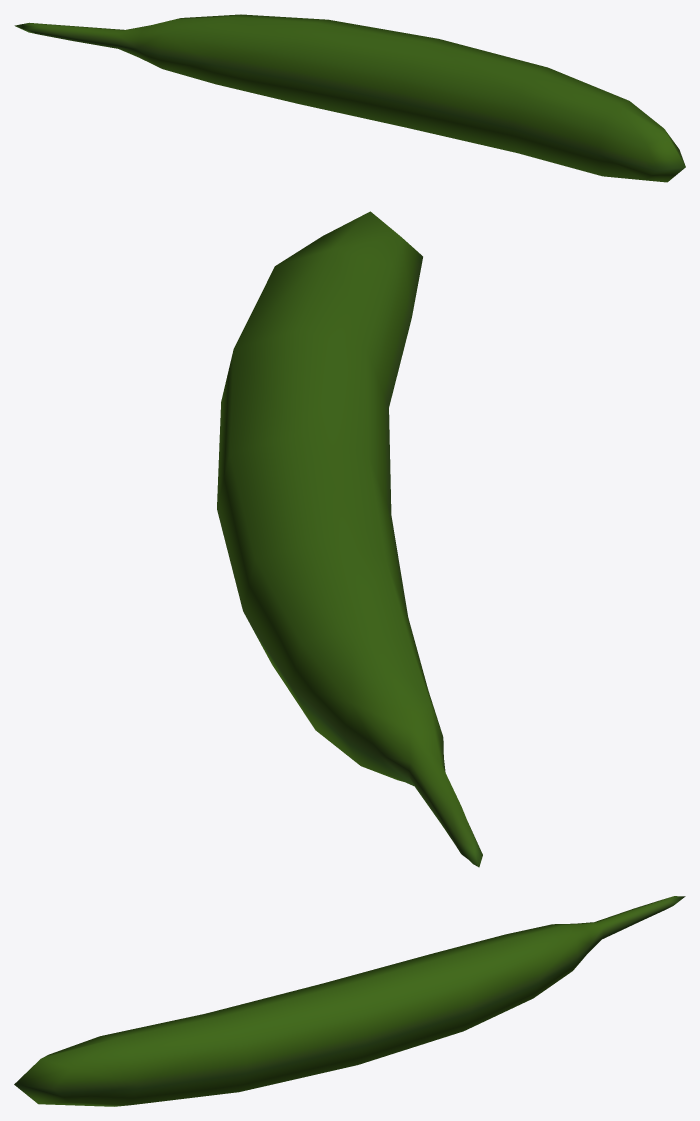
The model's file is GreenBean (9).fbx.
3 views of the same model, one above another, from view 1: azimuth 30°, elevation 25°; view 2: azimuth 150°, elevation 25°; view 3: azimuth 270°, elevation 25° (orthographic). The views are drawn at different scales.
Visible parts, largest first — view 1: Apple (4); view 2: Apple (4); view 3: Apple (4).
Boxes of the visible parts, <box> form: Apple (4): <box>14,14,685,182</box>; Apple (4): <box>217,211,482,867</box>; Apple (4): <box>14,896,685,1106</box>.
Size of the model in its own units: 0.8833 by 0.1772 by 1.29.
